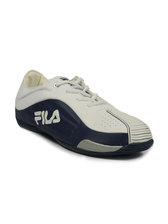shoes: (13, 63, 156, 159)
